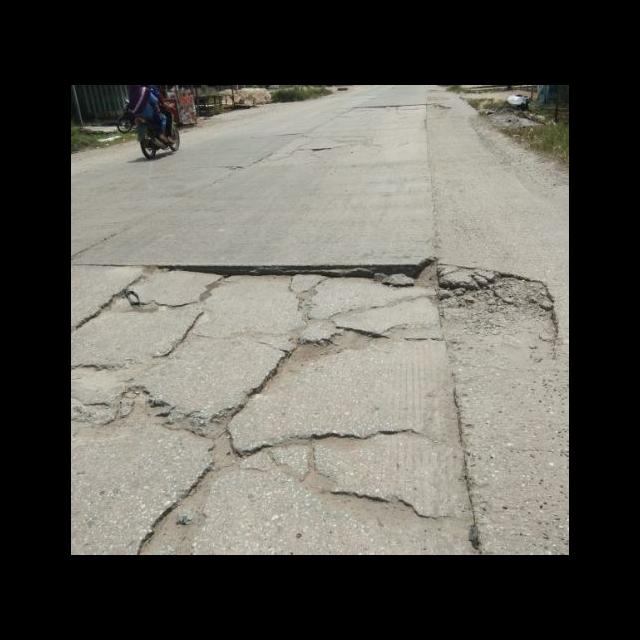lubang_kecil: (433, 252, 560, 367)
retak_memanjang: (113, 335, 304, 555), (201, 408, 459, 523), (145, 233, 427, 301), (71, 258, 152, 337)
